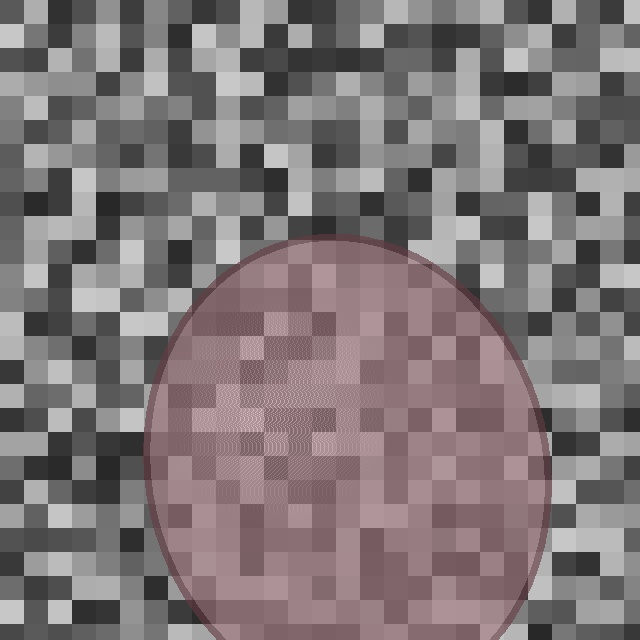lens: (146, 237, 548, 640)
